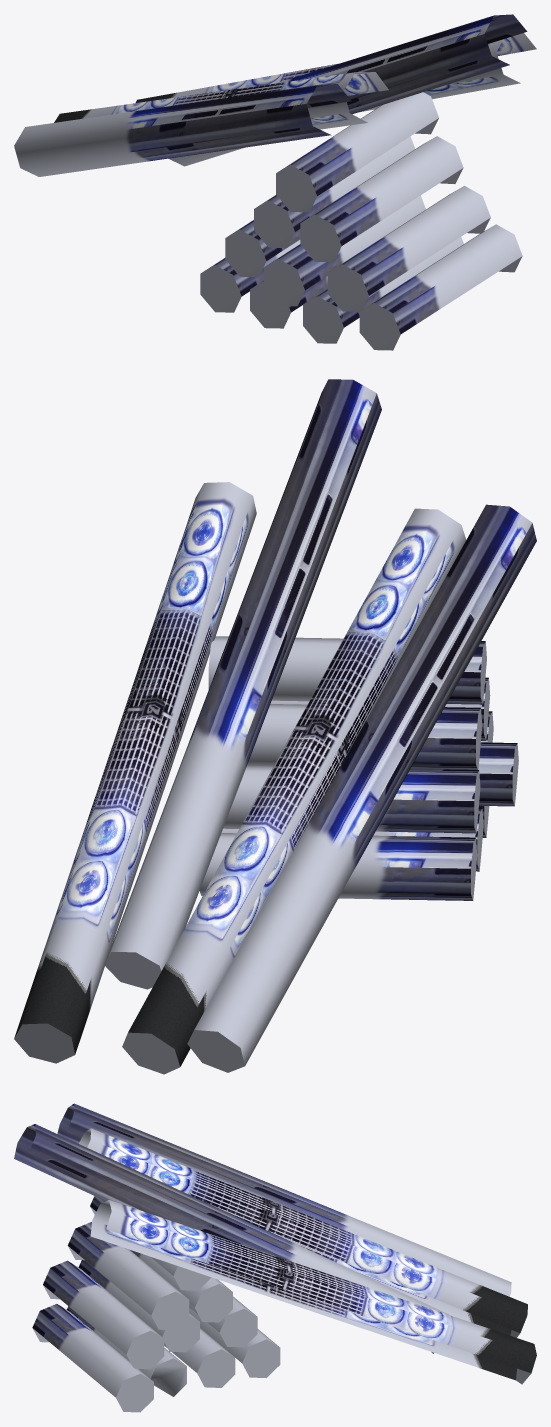
The model's file is lift1.FBX.
3 views of the same model, one above another, from view 1: azimuth 30°, elevation 25°; view 2: azimuth 150°, elevation 25°; view 3: azimuth 270°, elevation 25° (orthographic). The views are drawn at different scales.
Parts seen in each view (by area): view 1: lift1; view 2: lift1; view 3: lift1.
Part boxes in pixels (x1,y1,x2,y2): lift1: (14,14,536,350); lift1: (14,379,536,1074); lift1: (14,1103,536,1412).
Size of what is drawn, in the model's own units: 364 by 415 by 713.
